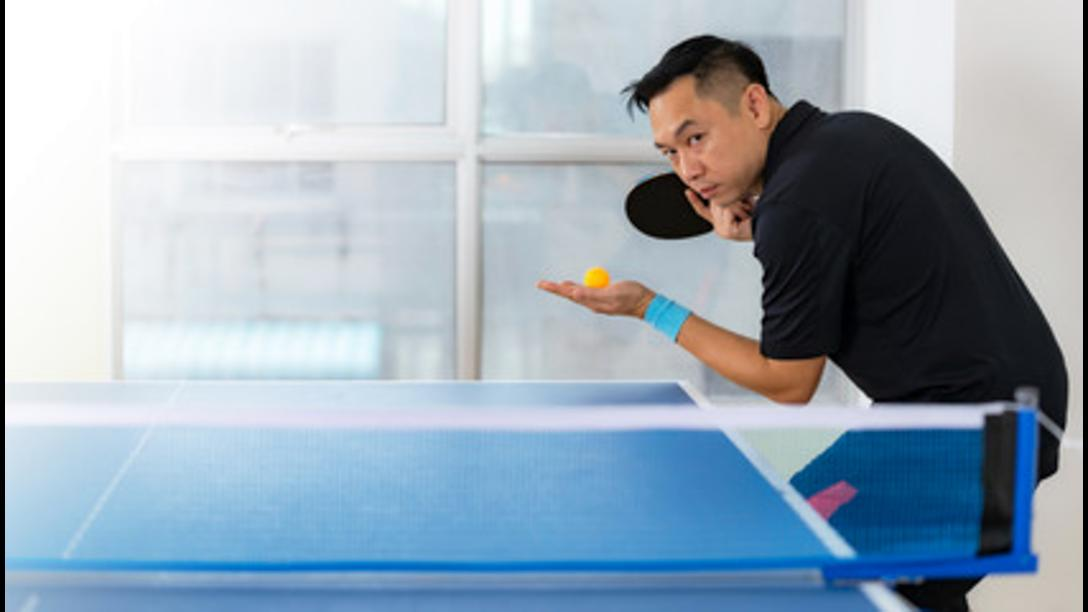Table-Tennis-Ball: (584, 266, 608, 288)
